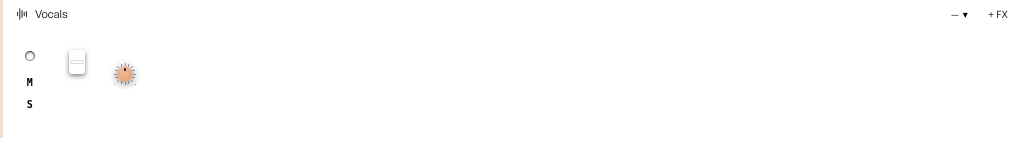
Test: TrackHeader — name editing › shows an input with current name value on double-click
Double-click the text "Vocals" at (51, 14), box [35,7,68,21]
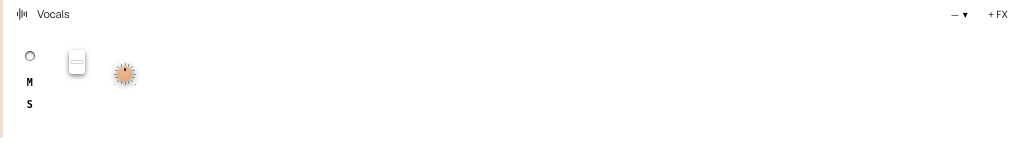
expect the field named "track name" holds "Vocals": met, box [33,6,939,22]
